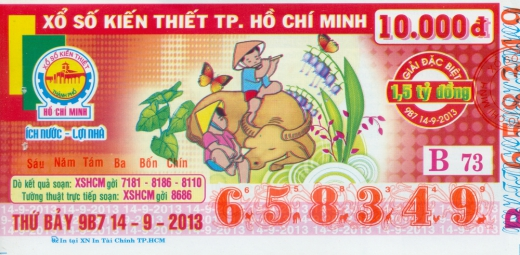serial_zone: (210, 181, 500, 234)
